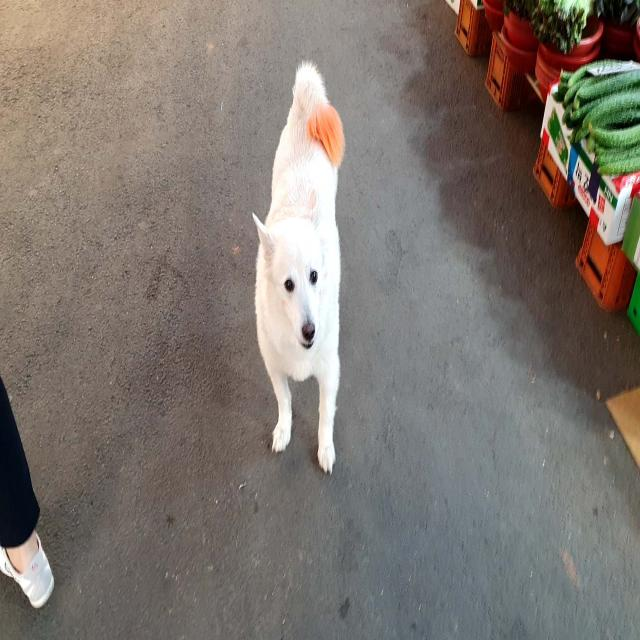Dog: (252, 62, 346, 474)
